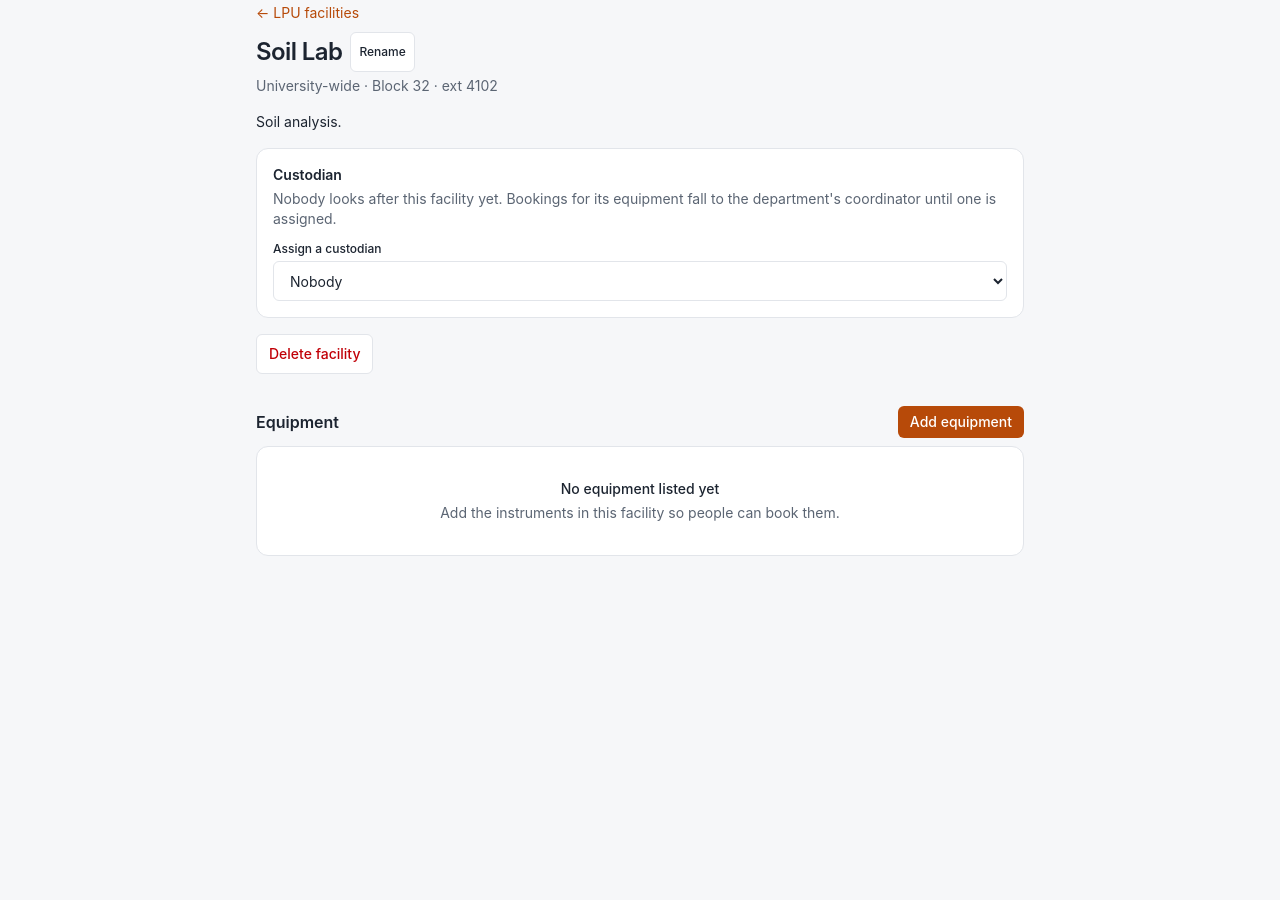
Test: FacilityDetailPage › asks before deleting, and says what is attached
Click the button "Delete facility" at (315, 354), box x1=256 y1=334 x2=374 y2=374
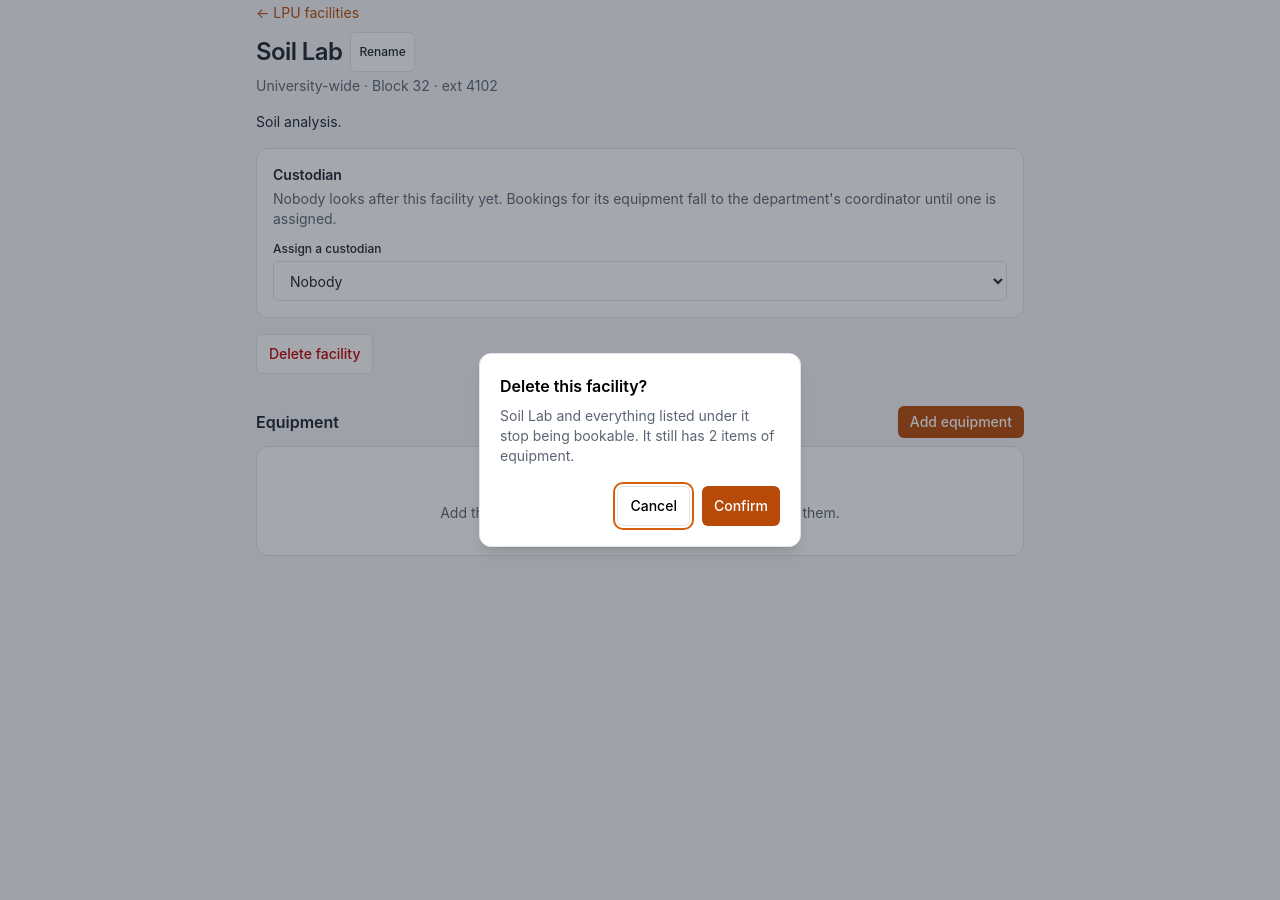
Check: the heading "Delete this facility?" is shown, box x1=500 y1=376 x2=647 y2=396
Check: the text "2 items of equipment" is shown, box x1=500 y1=407 x2=774 y2=464
